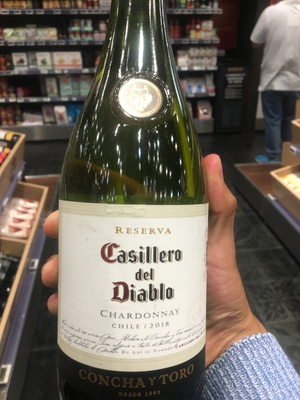casillero del diablo chardonnay: (52, 27, 213, 399)
